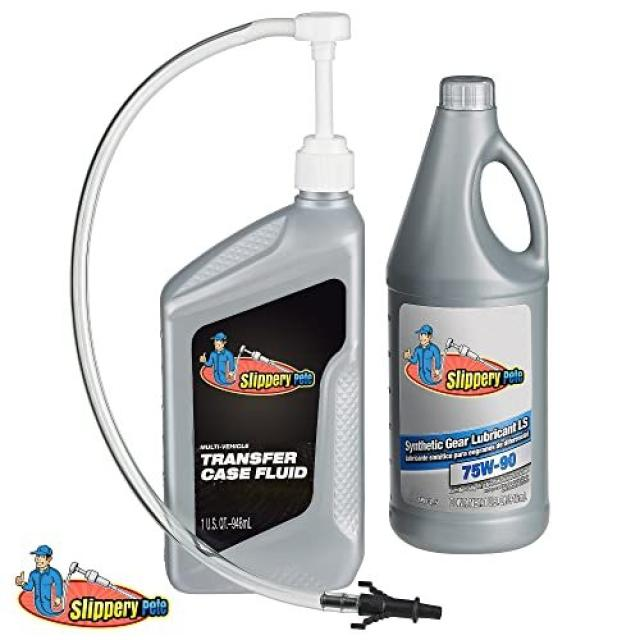-oil-: (60, 7, 381, 596)
